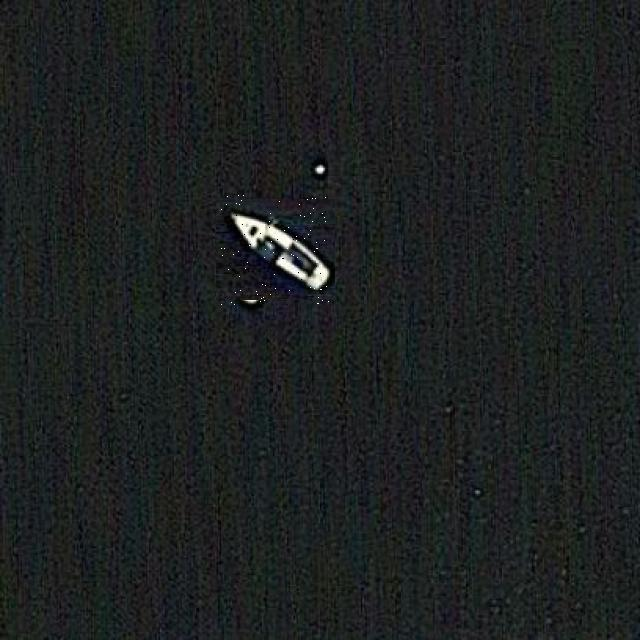boat: (220, 194, 331, 305)
